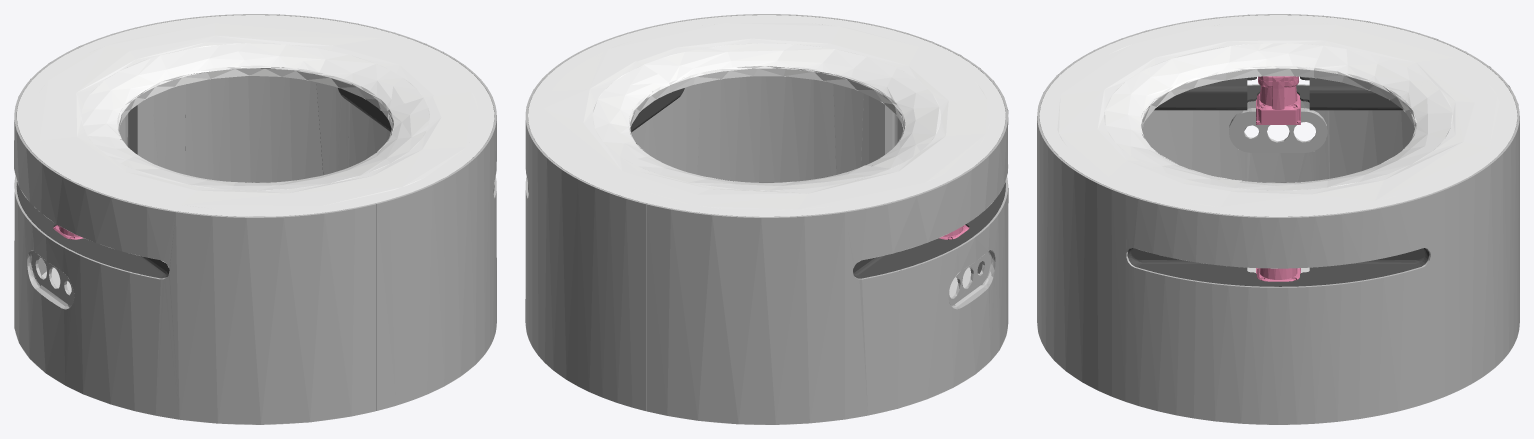
File: mobile_assy.dae
3 views of the same model, side by side, from view 1: azimuth 30°, elevation 25°; view 2: azimuth 150°, elevation 25°; view 3: azimuth 270°, elevation 25° (orthographic).
Parts seen in each view (by area): view 1: Untitled_017, Untitled_024, Untitled_023, Untitled_022, Untitled_018; view 2: Untitled_017, Untitled_024, Untitled_023, Untitled_022, Untitled_018; view 3: Untitled_023, Untitled_024, Untitled_017, Untitled_018, Untitled_022, Untitled_020, Untitled_029.
Part boxes in pixels (<box>): Untitled_017: <box>14,27,375,424</box>; Untitled_024: <box>16,15,494,216</box>; Untitled_023: <box>135,14,496,410</box>; Untitled_022: <box>16,182,169,278</box>; Untitled_018: <box>338,87,494,191</box>; Untitled_017: <box>646,27,1008,424</box>; Untitled_024: <box>528,15,1005,216</box>; Untitled_023: <box>525,14,886,410</box>; Untitled_022: <box>853,182,1005,278</box>; Untitled_018: <box>528,88,684,191</box>; Untitled_023: <box>1037,116,1519,424</box>; Untitled_024: <box>1039,15,1517,216</box>; Untitled_017: <box>1037,14,1519,182</box>; Untitled_018: <box>1127,248,1429,286</box>; Untitled_022: <box>1154,76,1402,110</box>; Untitled_020: <box>1256,76,1300,124</box>; Untitled_029: <box>1256,268,1300,281</box>.
Bounding box in the file's own units: 0.6365 × 0.6362 × 0.3052.
